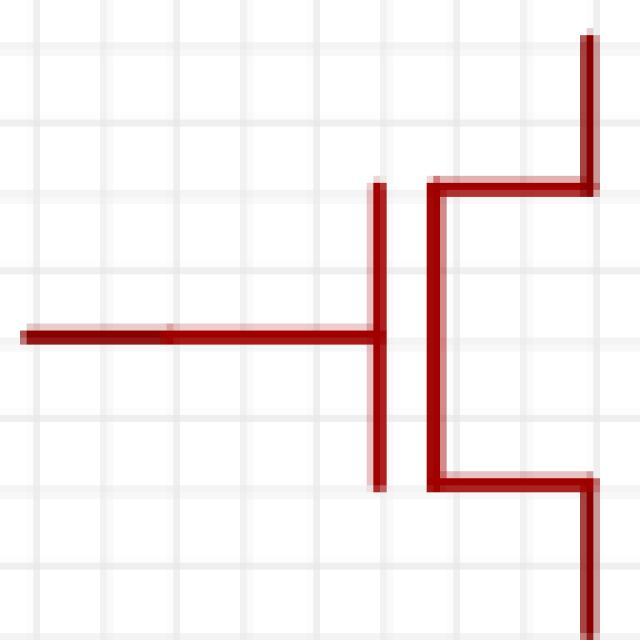nmos: (43, 30, 628, 630)
